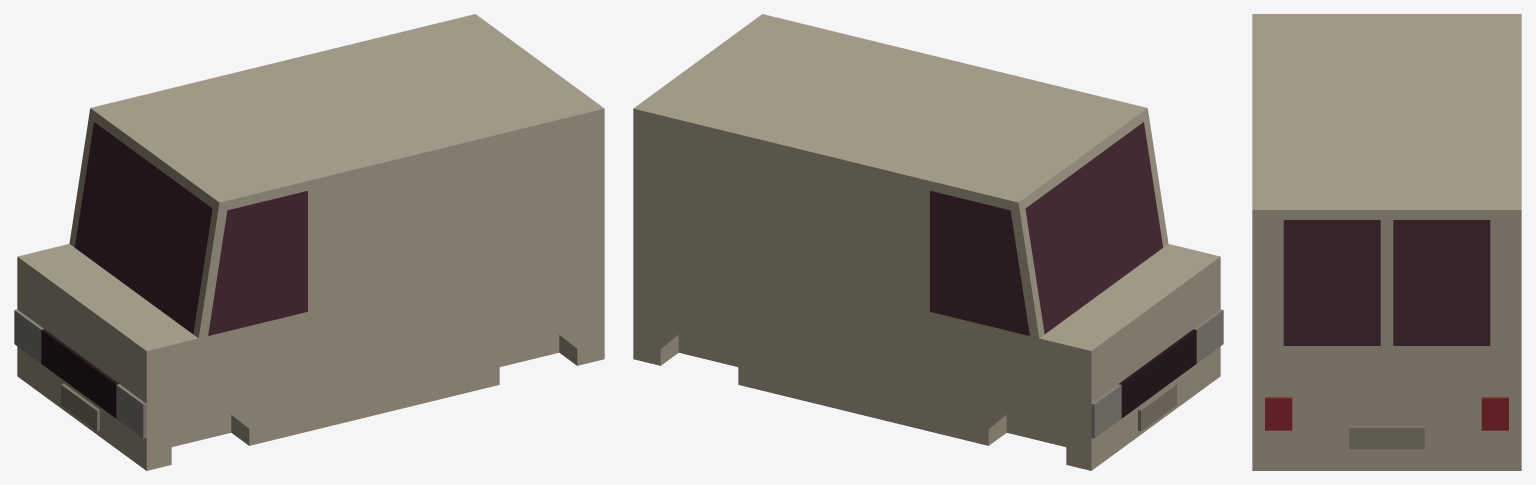
File: Van_White.fbx
3 views of the same model, side by side, from view 1: azimuth 30°, elevation 25°; view 2: azimuth 150°, elevation 25°; view 3: azimuth 270°, elevation 25° (orthographic). The views are drawn at different scales.
Parts seen in each view (by area): view 1: Van_White, Van_Lights; view 2: Van_White, Van_Lights; view 3: Van_White, Van_Lights.
Part boxes in pixels (box(x1,y1,x2,y2)): Van_White: box(17, 14, 604, 470); Van_Lights: box(14, 309, 146, 438); Van_White: box(633, 14, 1220, 470); Van_Lights: box(1091, 309, 1223, 438); Van_White: box(1252, 14, 1521, 470); Van_Lights: box(1265, 397, 1508, 430).
Size of the model in its own units: 4.46 by 2.3 by 2.15.
